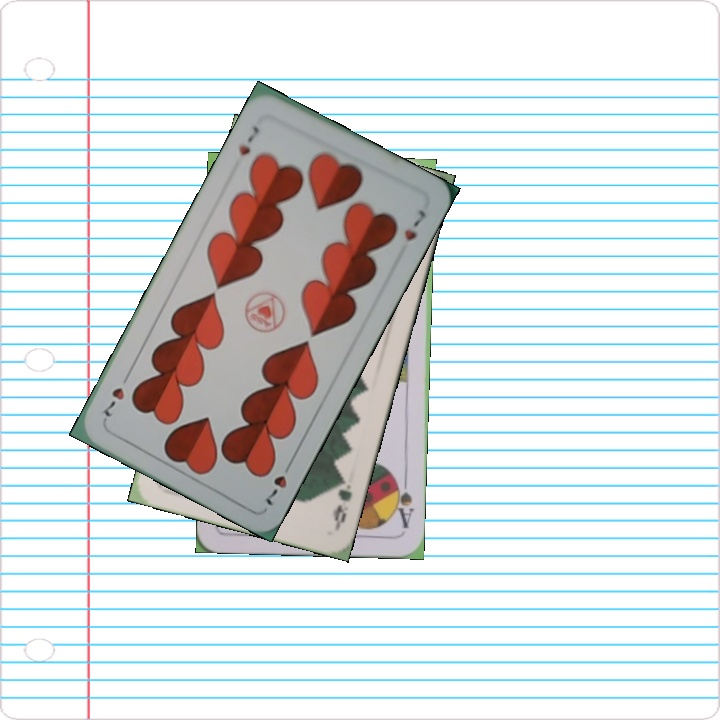G9: (329, 471, 355, 531)
H7: (261, 456, 296, 509), (234, 122, 263, 158)
SA: (390, 473, 417, 530)
